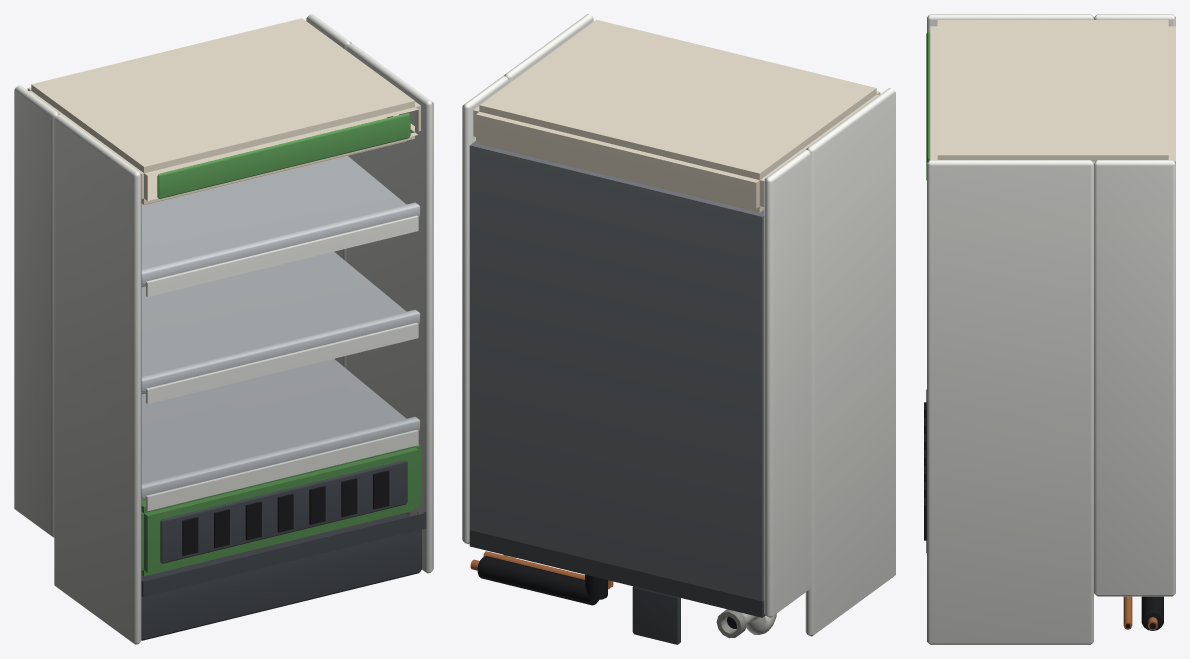
File: DrinkCooler_GrabGo_10.glb
3 views of the same model, side by side, from view 1: azimuth 30°, elevation 25°; view 2: azimuth 150°, elevation 25°; view 3: azimuth 270°, elevation 25° (orthographic). The views are drawn at different scales.
Visible parts, largest first — view 1: SM_DrinkCooler_GrabGo_10; view 2: SM_DrinkCooler_GrabGo_10; view 3: SM_DrinkCooler_GrabGo_10.
Boxes of the visible parts, left/top/right/bottom form: SM_DrinkCooler_GrabGo_10: left=14, top=14, right=433, bottom=644; SM_DrinkCooler_GrabGo_10: left=462, top=14, right=895, bottom=644; SM_DrinkCooler_GrabGo_10: left=924, top=14, right=1175, bottom=644.
Size of the model in its own units: 1 by 1.5 by 0.708.
1 material, 1 textured.
